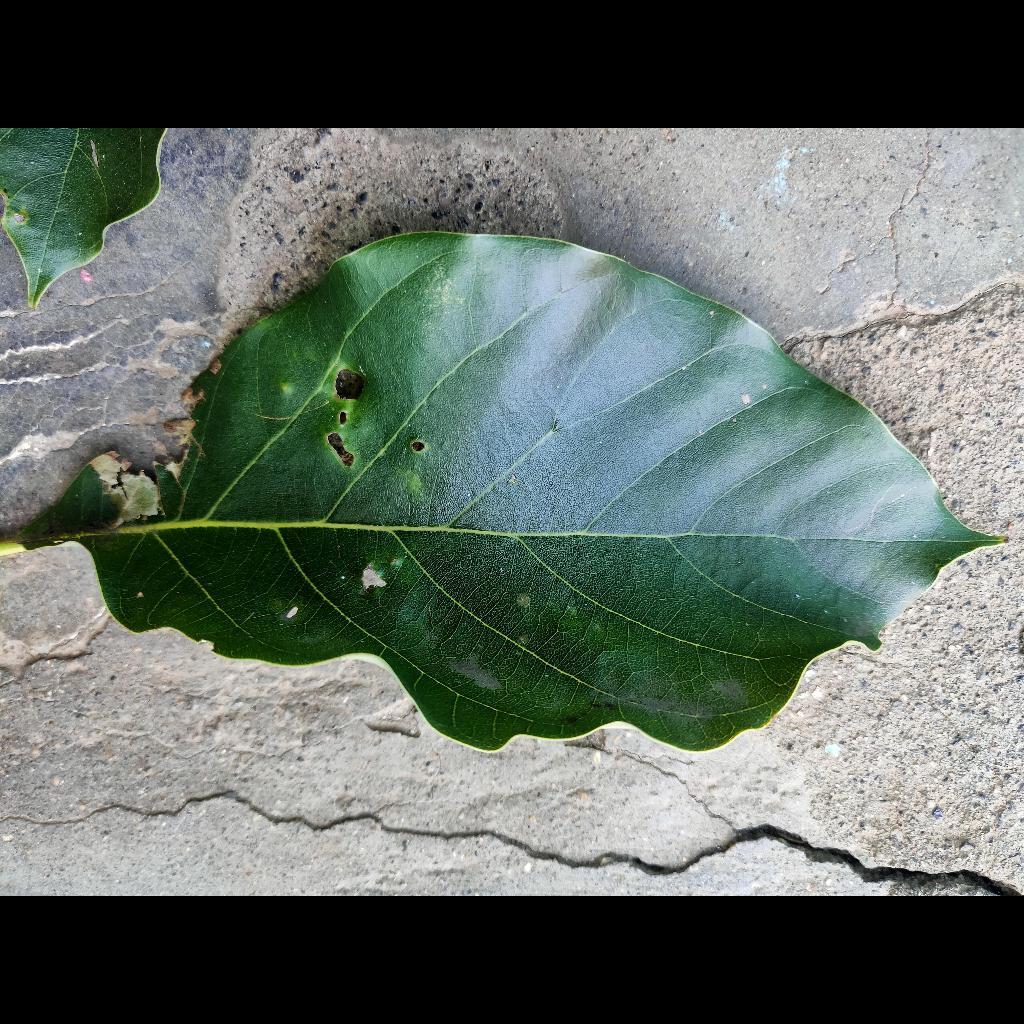Pest attack: (79, 370, 223, 532), (316, 351, 458, 483)
